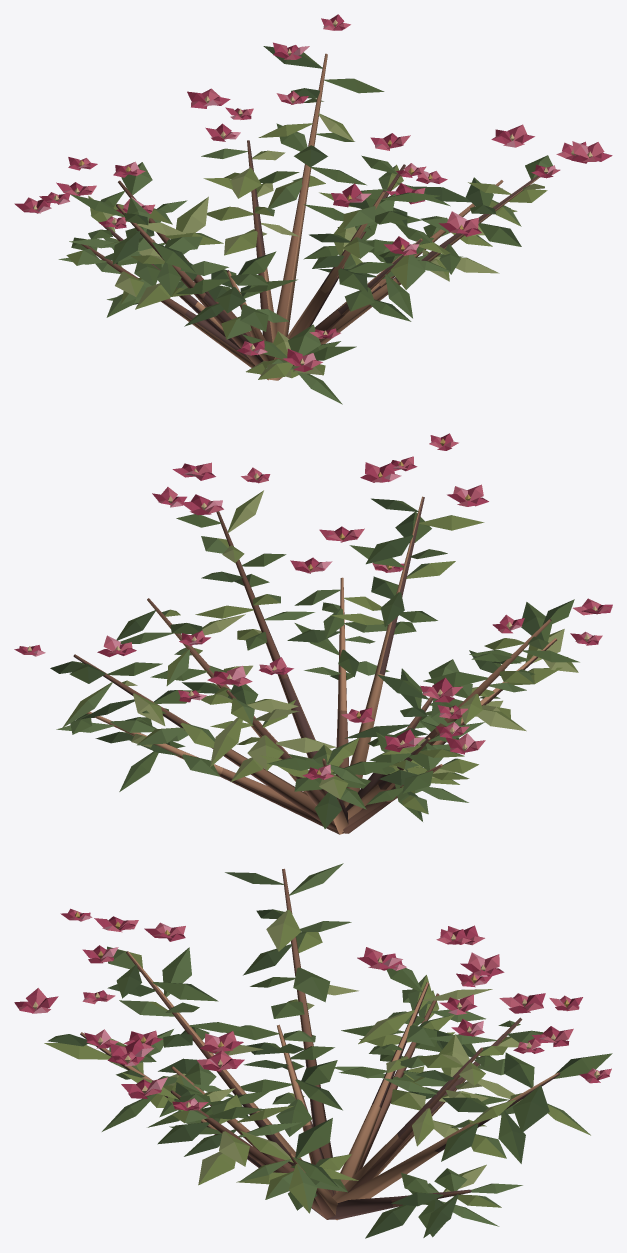
The model's file is wild-azalea.glb.
The picture shows the model from 3 angles, top to bottom: view 1: azimuth 30°, elevation 25°; view 2: azimuth 150°, elevation 25°; view 3: azimuth 270°, elevation 25°; orthographic projection. The views are drawn at different scales.
Parts seen in each view (by area): view 1: Azalea whorled leaves, Azalea forks, Five-petal azalea flowers; view 2: Azalea whorled leaves, Azalea forks, Five-petal azalea flowers; view 3: Azalea whorled leaves, Azalea forks, Five-petal azalea flowers.
Boxes of the visible parts, x1=… form: Azalea whorled leaves: x1=58, y1=46, x2=552, y2=404; Azalea forks: x1=81, y1=53, x2=539, y2=380; Five-petal azalea flowers: x1=14, y1=14, x2=612, y2=371; Azalea whorled leaves: x1=50, y1=490, x2=579, y2=828; Azalea forks: x1=73, y1=496, x2=556, y2=834; Five-petal azalea flowers: x1=14, y1=433, x2=612, y2=779; Azalea whorled leaves: x1=44, y1=863, x2=612, y2=1238; Azalea forks: x1=80, y1=868, x2=560, y2=1220; Five-petal azalea flowers: x1=14, y1=908, x2=611, y2=1110.
Bounding box in the file's own units: 1.04 × 0.6489 × 1.11.
